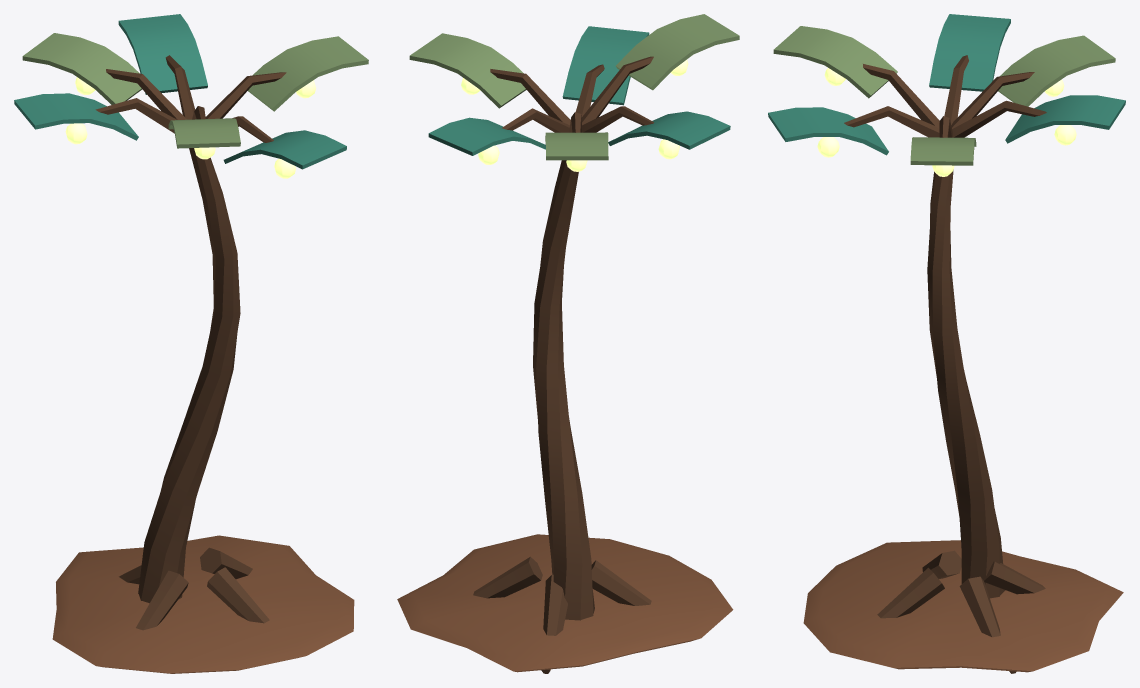
Rendered from deco_alien_tree_small.fbx.
The picture shows the model from 3 angles, left to right: view 1: azimuth 30°, elevation 25°; view 2: azimuth 150°, elevation 25°; view 3: azimuth 270°, elevation 25°; orthographic projection. The views are drawn at different scales.
Visible parts, largest first — view 1: AlienTree_Small_Tree, AlienTree_Small_Roots; view 2: AlienTree_Small_Tree, AlienTree_Small_Roots; view 3: AlienTree_Small_Tree, AlienTree_Small_Roots.
Boxes of the visible parts, box(x1,y1,x2,y2) form: AlienTree_Small_Tree: box(14, 14, 368, 603); AlienTree_Small_Roots: box(52, 535, 354, 673); AlienTree_Small_Tree: box(409, 14, 739, 620); AlienTree_Small_Roots: box(397, 534, 733, 673); AlienTree_Small_Tree: box(768, 14, 1125, 598); AlienTree_Small_Roots: box(803, 540, 1123, 673).
Size of the model in its own units: 160 by 271 by 160.
